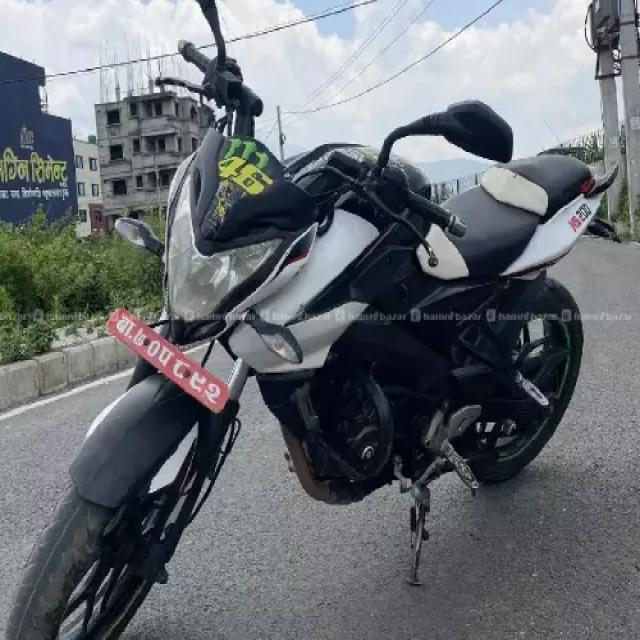License-plate: (112, 302, 226, 416)
